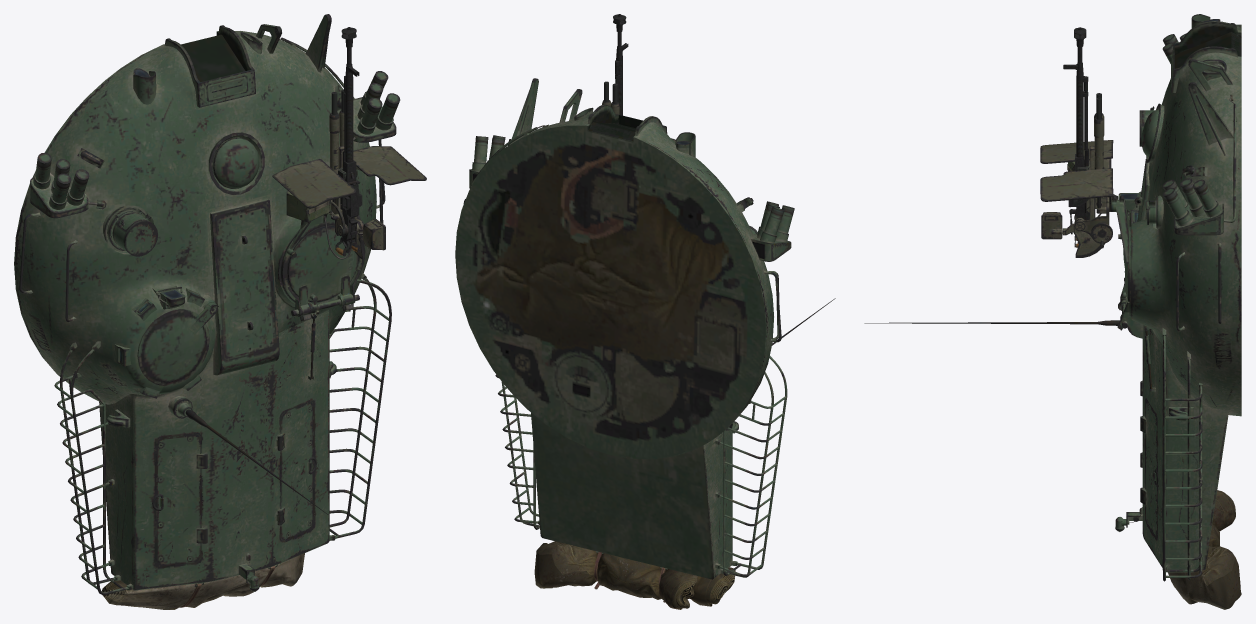
File: Turret_01.glb
3 renders of one model, left to right at view 1: azimuth 30°, elevation 25°; view 2: azimuth 150°, elevation 25°; view 3: azimuth 270°, elevation 25°, orthographic. The views are drawn at different scales.
Parts seen in each view (by area): view 1: set_0_group_0; view 2: set_0_group_0; view 3: set_0_group_0.
Boxes of the visible parts, x1,y1,x2,y2 form: set_0_group_0: (14,14,426,609); set_0_group_0: (455,14,835,609); set_0_group_0: (864,14,1241,609).
Bounding box in the file's own units: 2.79 × 4.36 × 2.59.
Materials: 1 (1 with a texture image).
